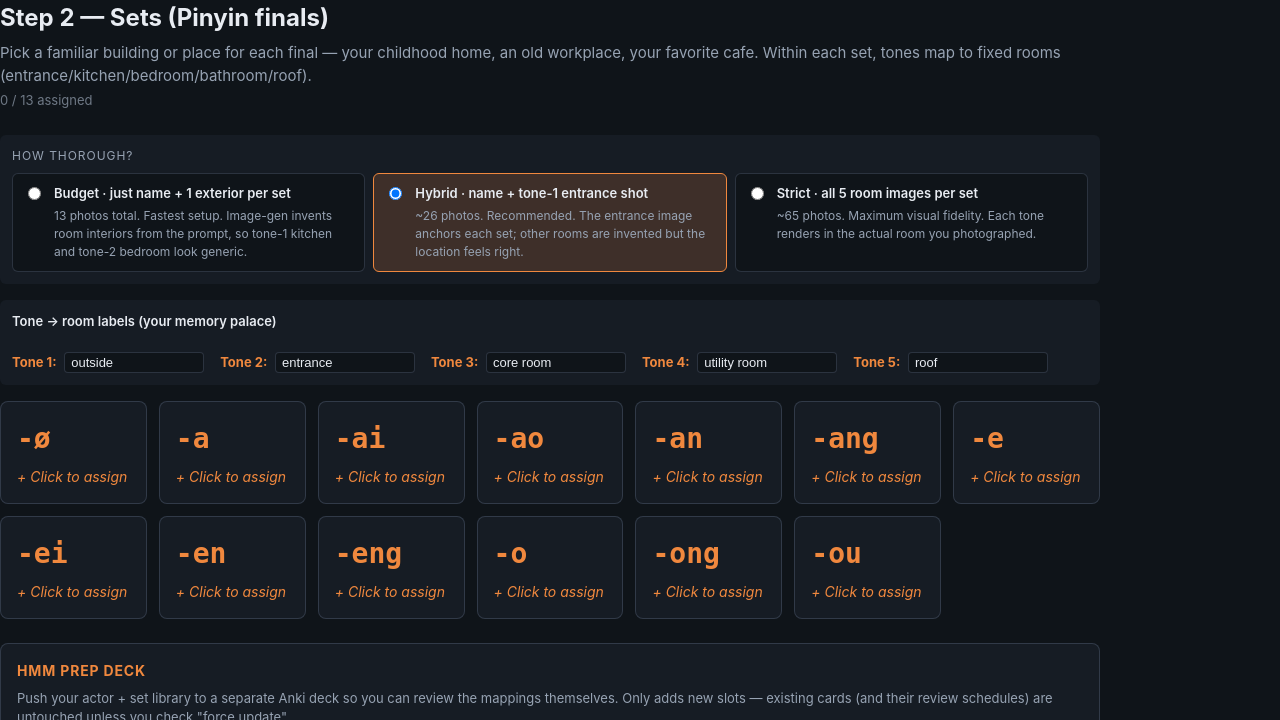
SetsWizard integration › walks the user from empty state to one assigned set
The image size is (1280, 720).
# Open the dialog for the `-a` final
Click the button with test id "final-card-a".
click(232, 452)  # box [159,400,306,504]
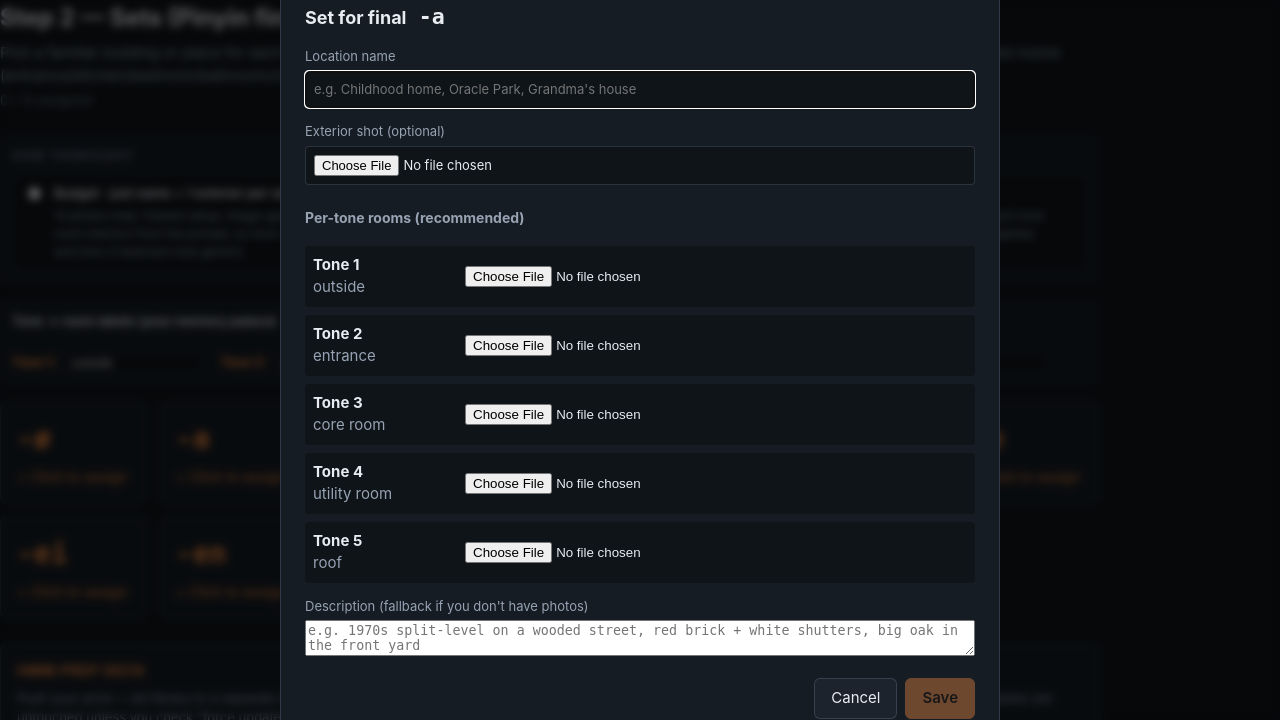
Expected: the field with test id "set-name-input" is shown
Expected: the button with test id "set-save-button" is disabled, [906,678,975,719]
Type "Childhood Home" into the field with test id "set-name-input".
click(640, 90); type("Childhood Home")  # box [305,71,975,108]
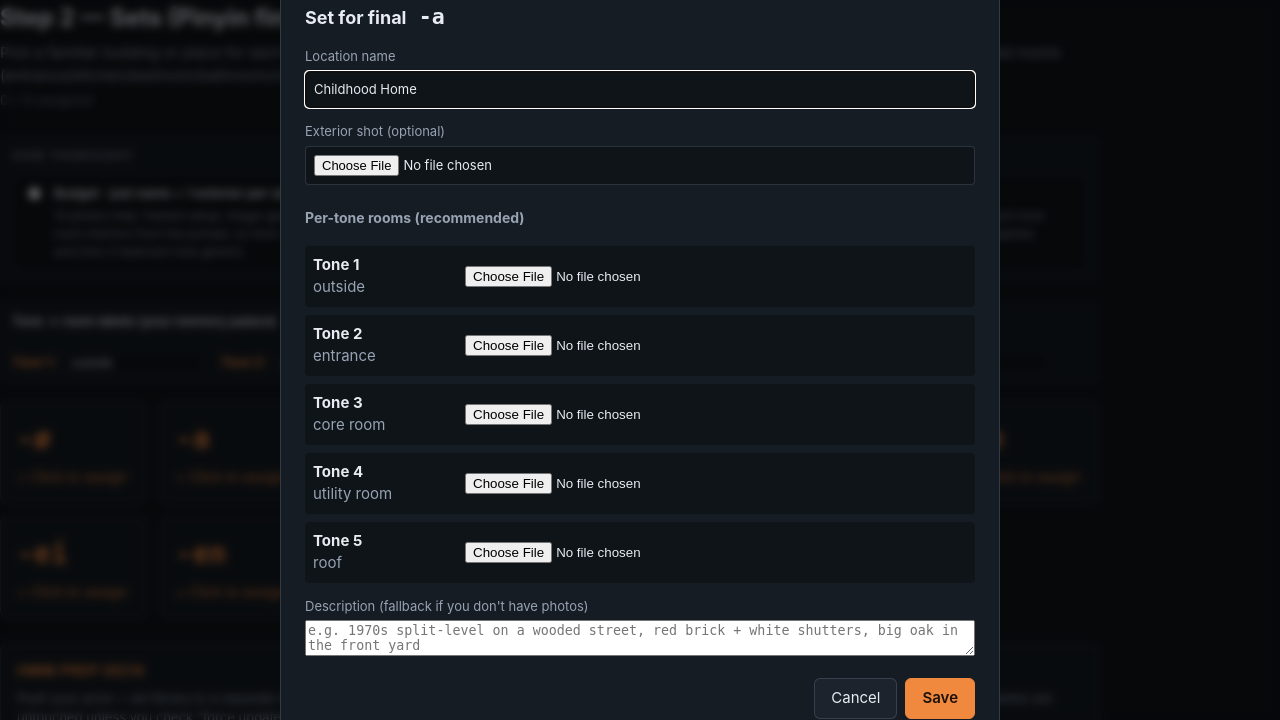
Expected: the button with test id "set-save-button" is enabled
Click the button with test id "set-save-button".
click(940, 699)  # box [906,678,975,719]
(page scrolled)
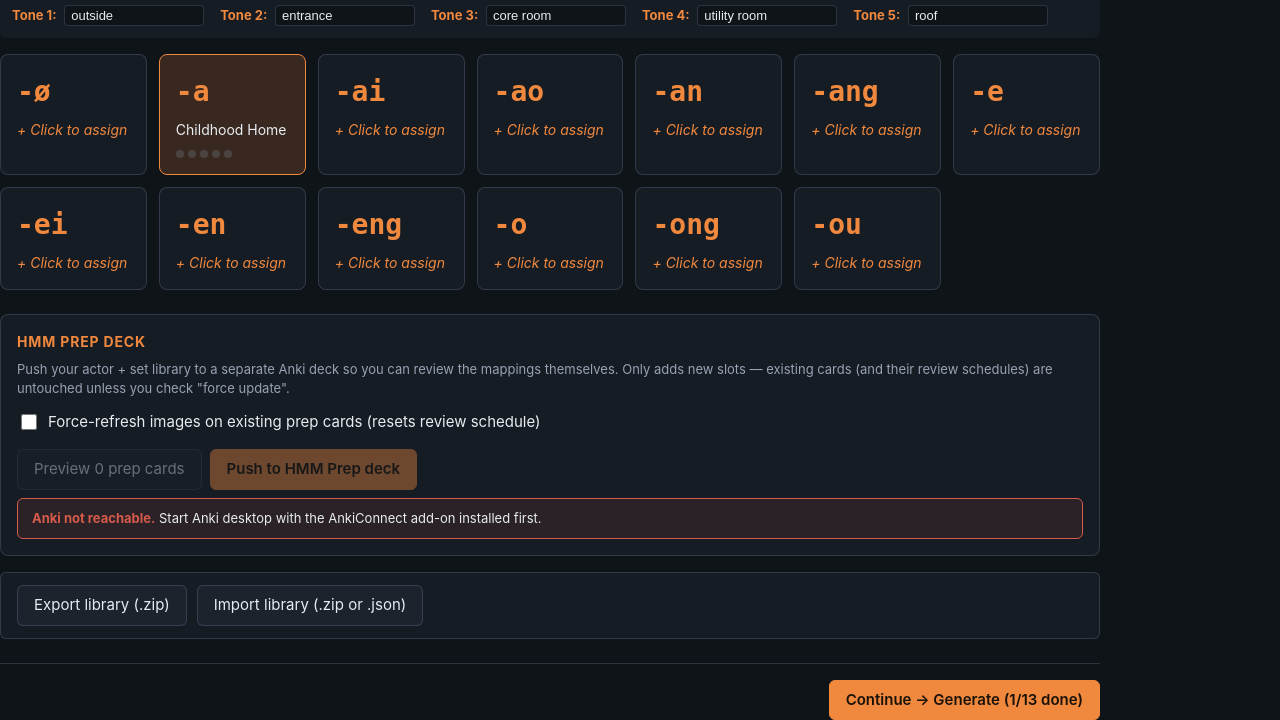
Expected: the field with test id "set-name-input" is gone
Expected: the button with test id "final-card-a" shows "Childhood Home", [159,54,306,174]
Expected: the button with test id "next-button" is enabled, [829,680,1100,719]
